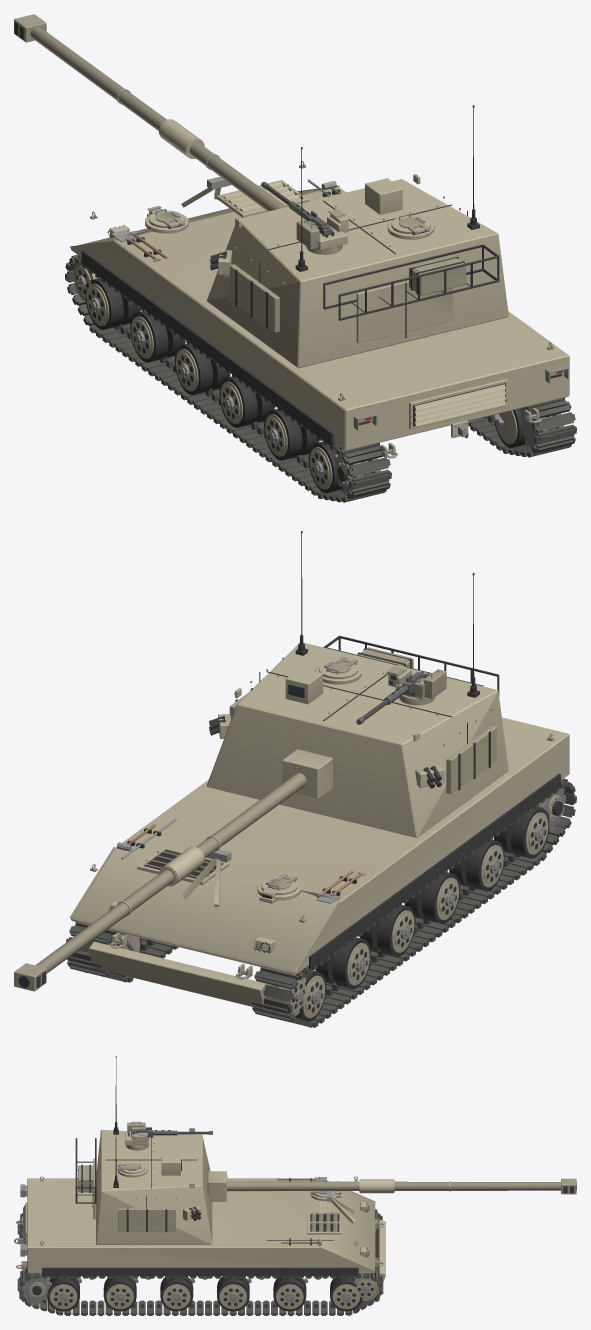
File: rus_spg_koal.glb
3 views of the same model, one above another, from view 1: azimuth 30°, elevation 25°; view 2: azimuth 150°, elevation 25°; view 3: azimuth 270°, elevation 25° (orthographic). The views are drawn at different scales.
Parts seen in each view (by area): view 1: body, turret, barrel; view 2: body, turret, barrel; view 3: body, turret, barrel.
Boxes of the visible parts, x1,y1,x2,y2 form: body: [65, 160, 576, 502]; turret: [206, 105, 508, 368]; barrel: [14, 14, 286, 211]; body: [66, 717, 576, 1027]; turret: [206, 531, 508, 837]; barrel: [14, 749, 332, 991]; body: [14, 1176, 385, 1315]; turret: [75, 1056, 212, 1244]; barrel: [207, 1171, 576, 1201].
Size of the model in its own units: 3.52 by 4.52 by 11.65.
